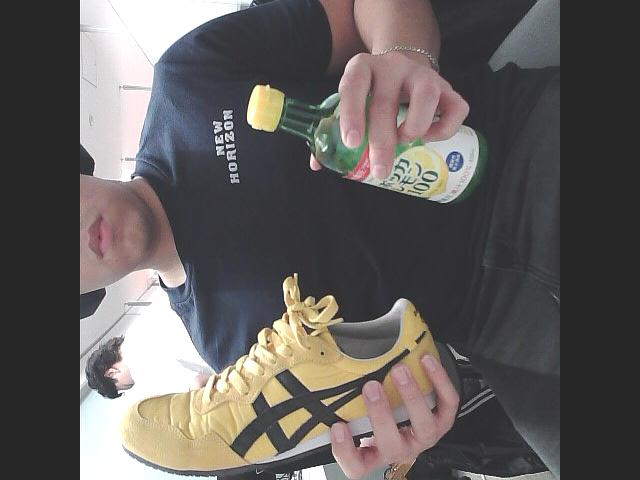Lemon_sapporo: (248, 73, 492, 206)
Shoes: (120, 290, 446, 474)
